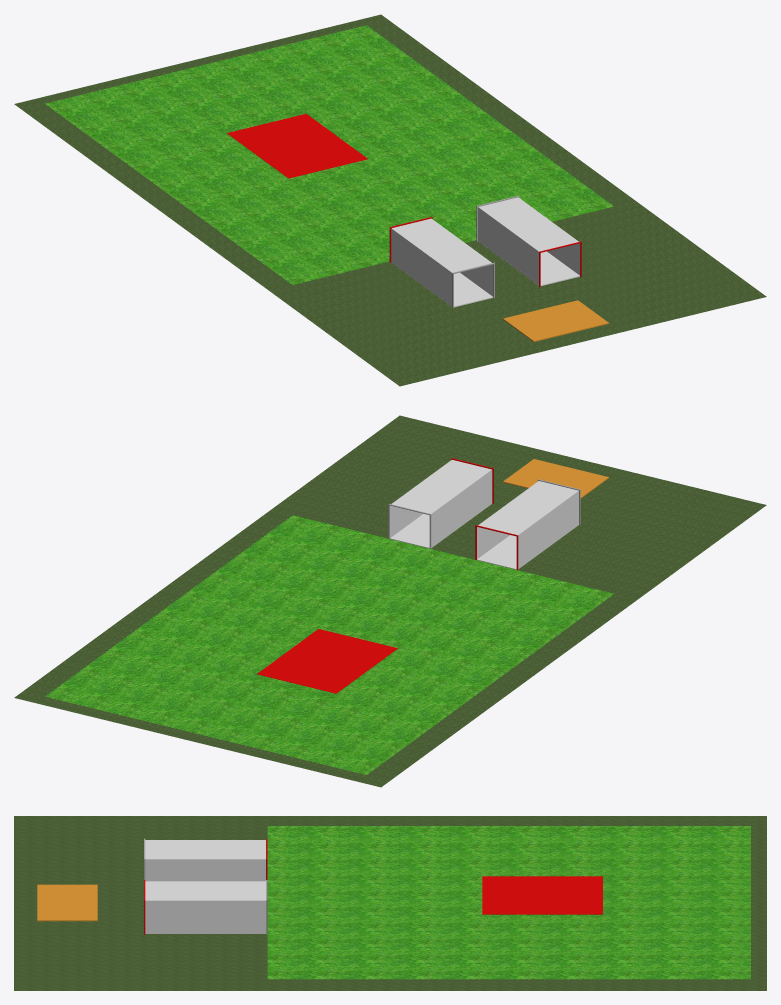
File: miss2_no_qr.glb
3 renders of one model, top to bottom at view 1: azimuth 30°, elevation 25°; view 2: azimuth 150°, elevation 25°; view 3: azimuth 270°, elevation 25°, orthographic. The views are drawn at different scales.
Visible parts, largest first — view 1: Final grd, basic gorund, corridor cover.001, corridor cover, corridor 1 grd.002, Takeoff and landing site, corridor 1 grd.001, corridor 1 grd; view 2: Final grd, basic gorund, corridor cover.001, corridor cover, corridor 1 grd.002, Takeoff and landing site, corridor 1 grd, corridor 1 grd.001; view 3: Final grd, basic gorund, corridor cover.001, corridor cover, corridor 1 grd.002, Takeoff and landing site.
Boxes of the visible parts, <box> form: Final grd: <box>45,25,613,284</box>; basic gorund: <box>14,14,766,386</box>; corridor cover.001: <box>478,197,580,284</box>; corridor cover: <box>391,218,493,305</box>; corridor 1 grd.002: <box>227,113,367,178</box>; Takeoff and landing site: <box>503,300,608,341</box>; corridor 1 grd.001: <box>478,240,579,286</box>; corridor 1 grd: <box>391,262,493,307</box>; Final grd: <box>45,515,613,774</box>; basic gorund: <box>14,415,766,787</box>; corridor cover.001: <box>390,460,492,546</box>; corridor cover: <box>477,481,578,567</box>; corridor 1 grd.002: <box>257,629,397,693</box>; Takeoff and landing site: <box>503,459,608,498</box>; corridor 1 grd: <box>477,524,578,569</box>; corridor 1 grd.001: <box>390,503,492,548</box>; Final grd: <box>267,826,750,979</box>; basic gorund: <box>14,816,766,990</box>; corridor cover.001: <box>145,881,265,933</box>; corridor cover: <box>145,840,265,881</box>; corridor 1 grd.002: <box>482,876,602,914</box>; Takeoff and landing site: <box>37,884,97,921</box>.
Bounding box in the file's own units: 34.23 × 3.21 × 62.29.
6 materials, 2 textured.
